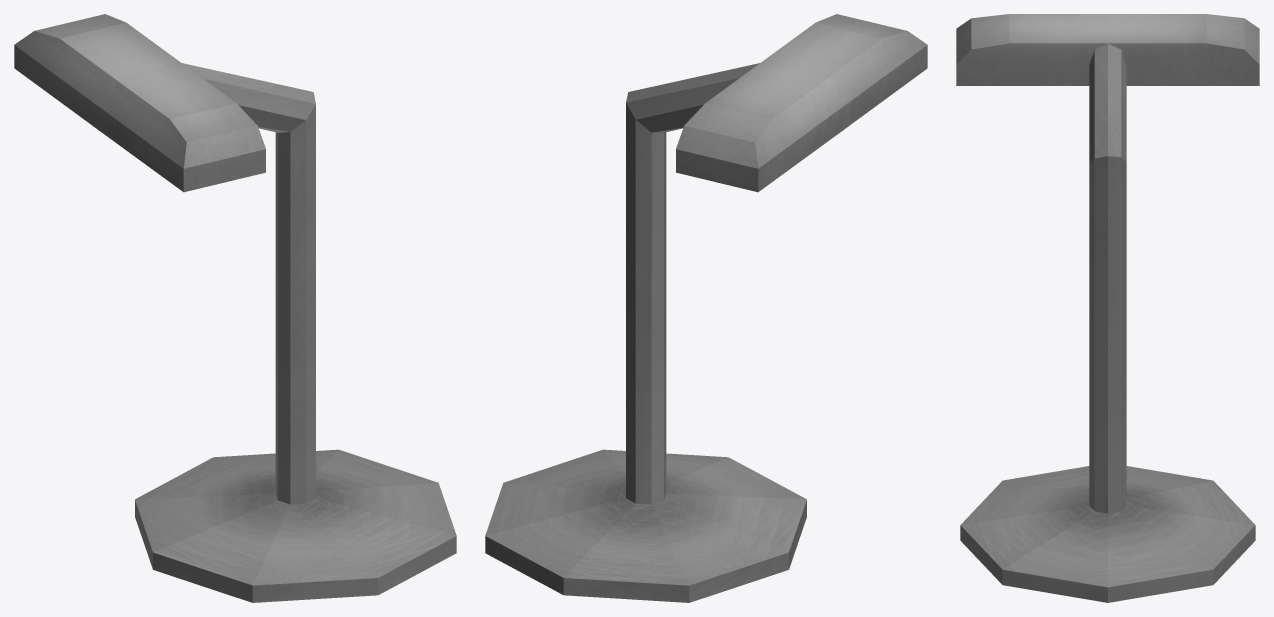
Rendered from desklamp.obj.
3 views of the same model, side by side, from view 1: azimuth 30°, elevation 25°; view 2: azimuth 150°, elevation 25°; view 3: azimuth 270°, elevation 25° (orthographic). The views are drawn at different scales.
Visible parts, largest first — view 1: desklamp; view 2: desklamp; view 3: desklamp.
Boxes of the visible parts, x1,y1,x2,y2 form: desklamp: (14,14,456,602); desklamp: (485,14,927,602); desklamp: (956,14,1259,602).
Size of the model in its own units: 0.4266 by 0.6001 by 0.3685.
Materials: 1 (1 with a texture image).
